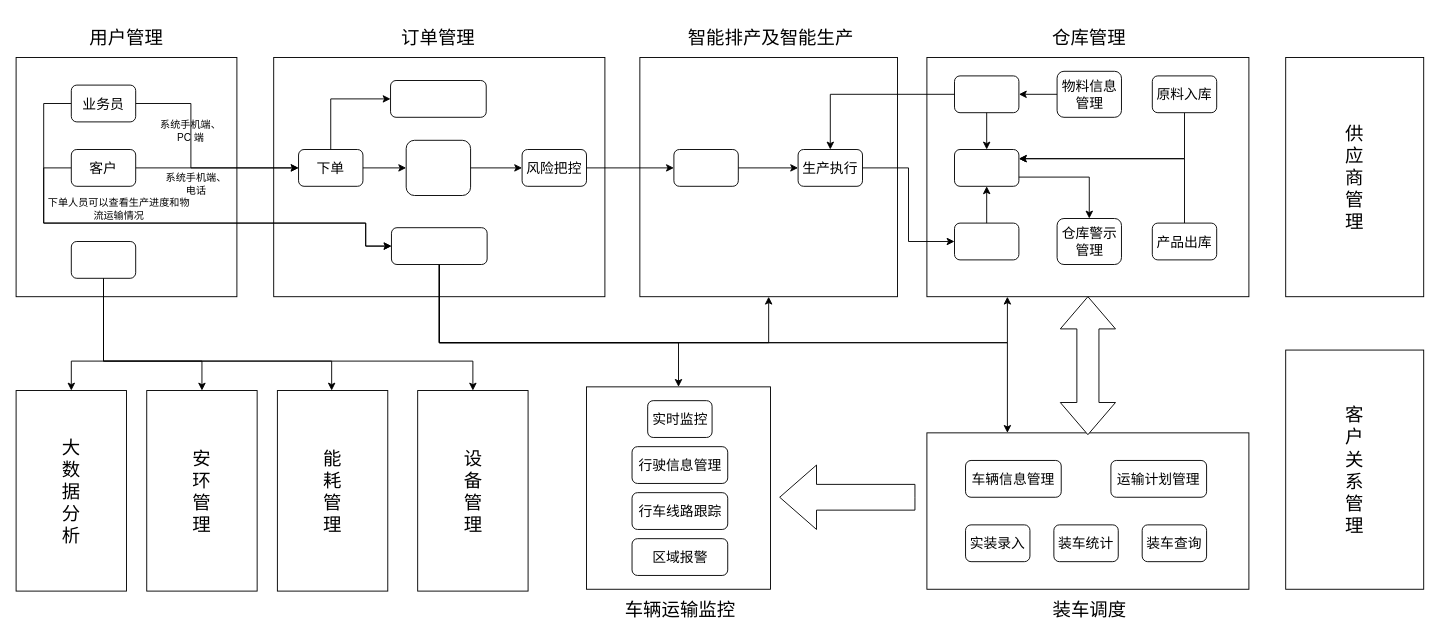
This 1440x643 diagram has some shape labels left out. Here are the shapes that lost their labels. From the top down, the centre of each, then its label:
(438,98): 订单统计报表
(986,94): 原料出库
(438,167): 合同用户对比分析
(705,167): 智能排产
(986,167): 报表管理
(103,259): 管理人员
(439,245): 订单状态监控
(986,241): 产品入库
